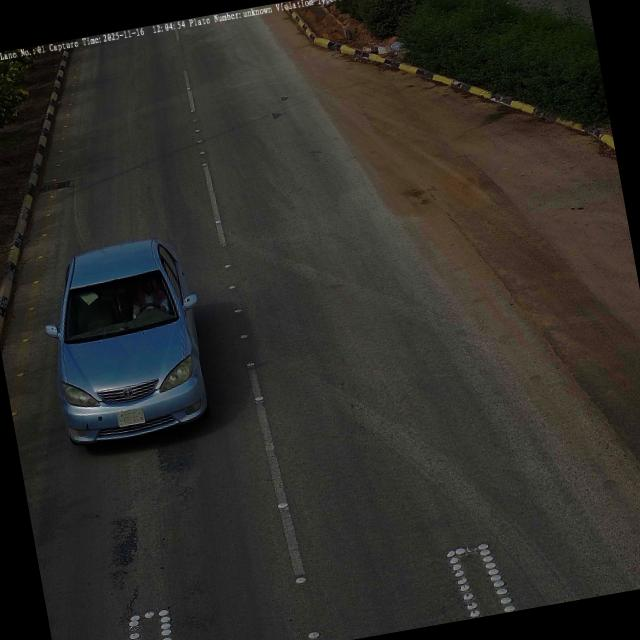person_without_seatbelt: (127, 275, 168, 318)
